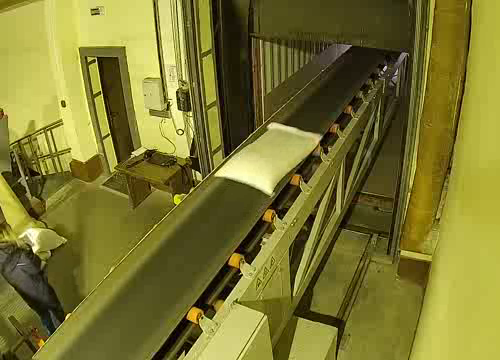bag: (207, 118, 333, 203)
